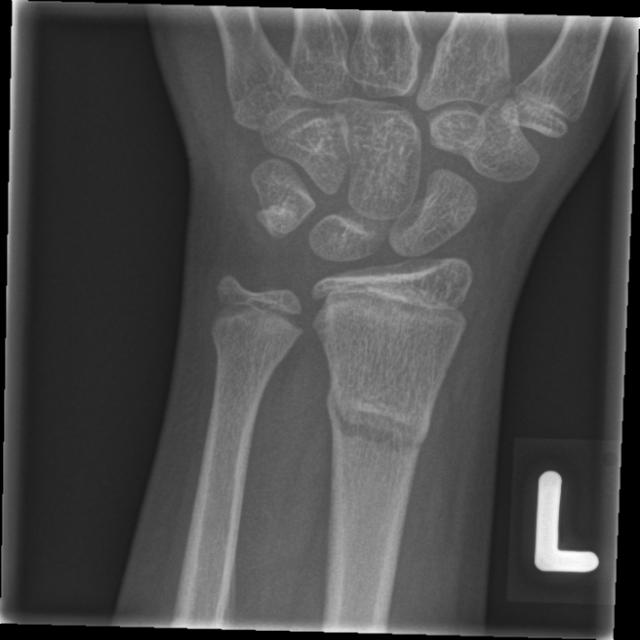radius fracture: (304, 362, 460, 588)
